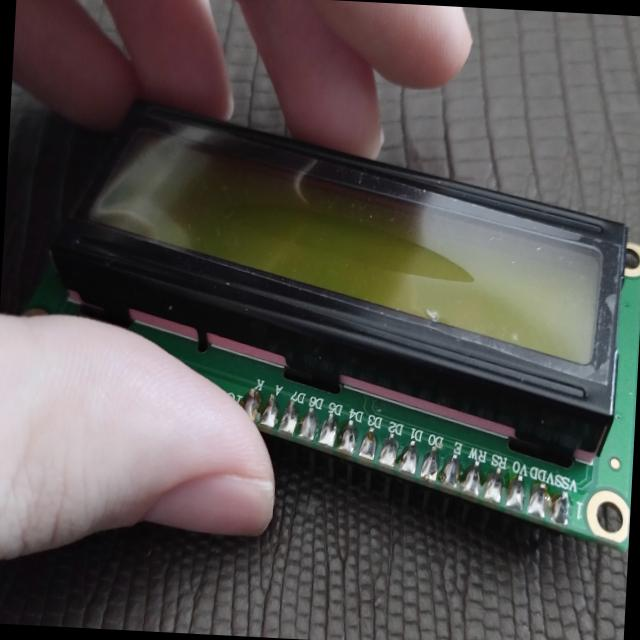lcd: (34, 93, 640, 554)
